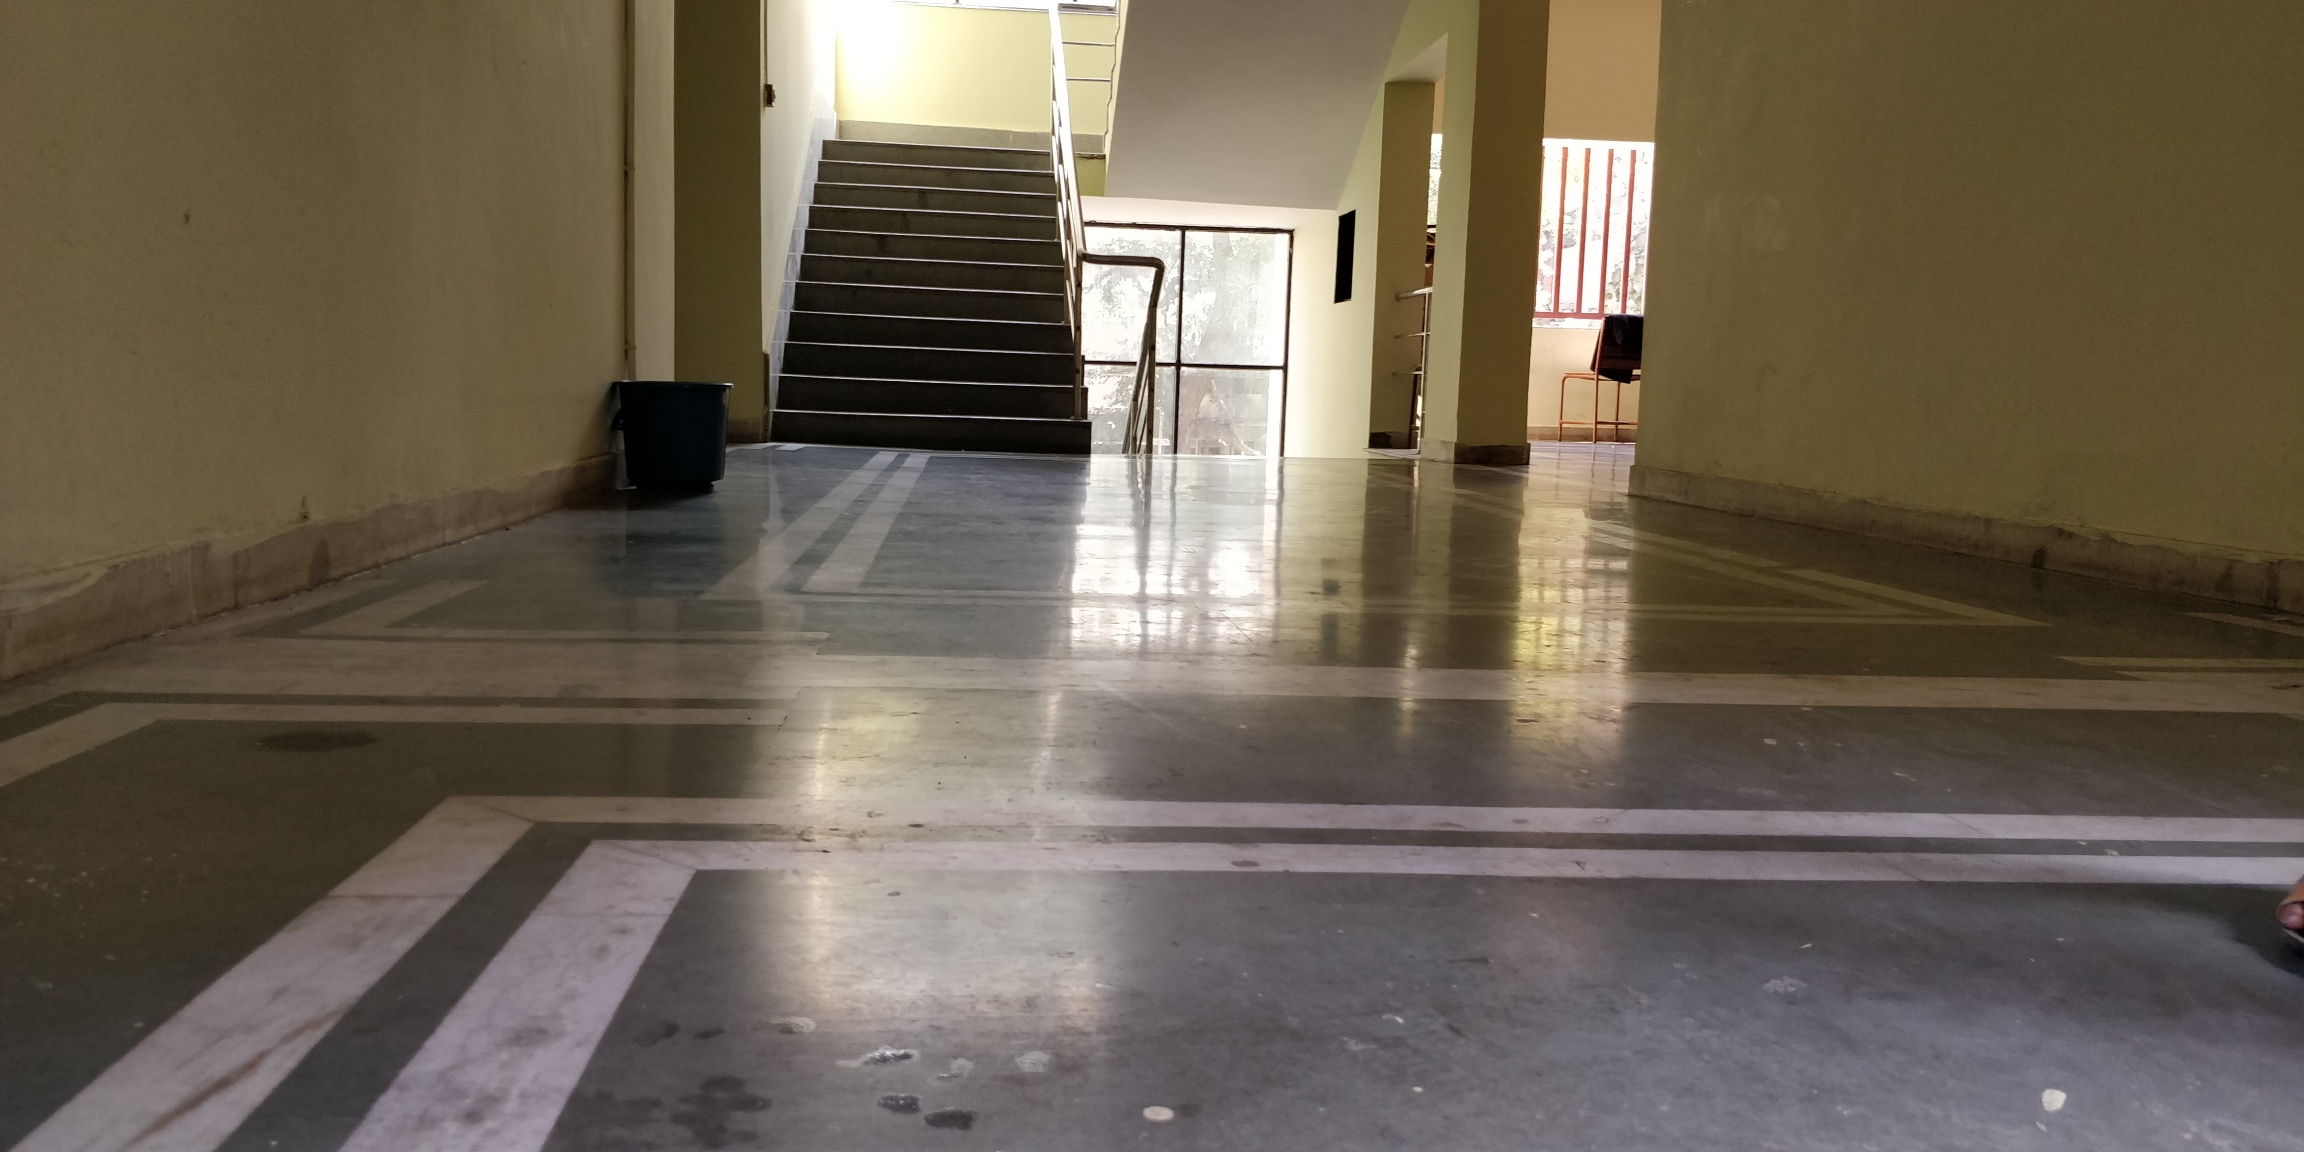stairs_up: (771, 148, 1058, 467)
